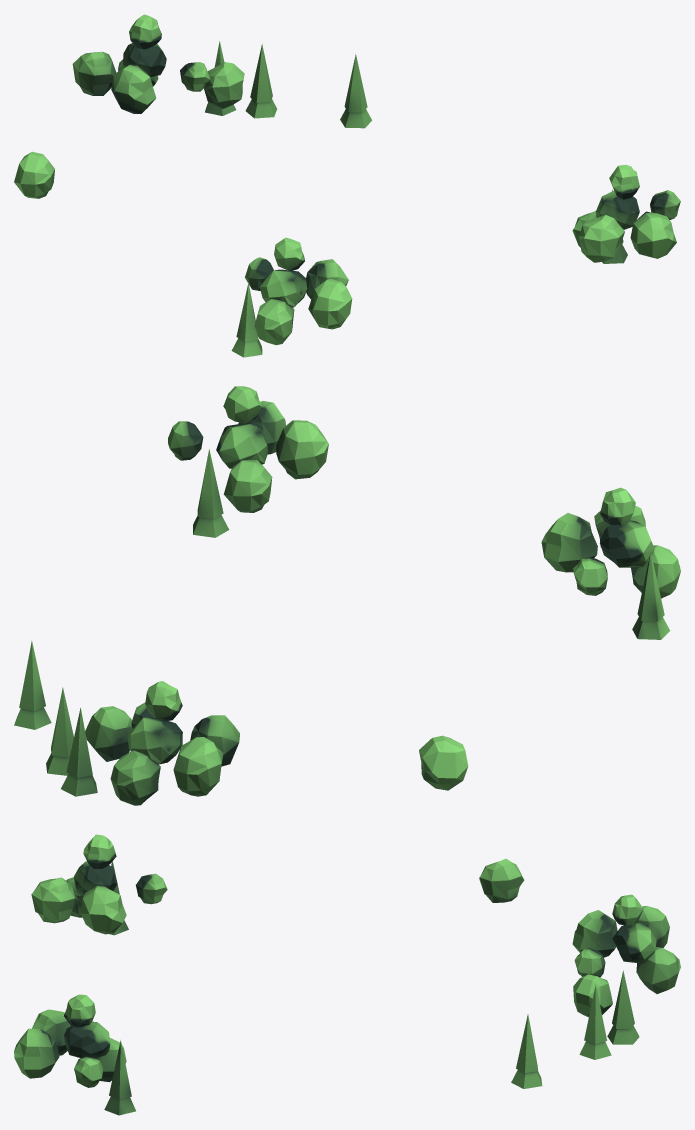
File: Wood_04.FBX
3 views of the same model, one above another, from view 1: azimuth 30°, elevation 25°; view 2: azimuth 150°, elevation 25°; view 3: azimuth 270°, elevation 25° (orthographic). The views are drawn at different scales.
Visible parts, largest first — view 1: Wood_04; view 2: Wood_04; view 3: Wood_04.
Boxes of the visible parts, x1,y1,x2,y2 form: Wood_04: (14, 14, 680, 357); Wood_04: (14, 386, 680, 805); Wood_04: (14, 834, 680, 1115).
Bounding box in the file's own units: 17.7 × 4 × 22.38.
